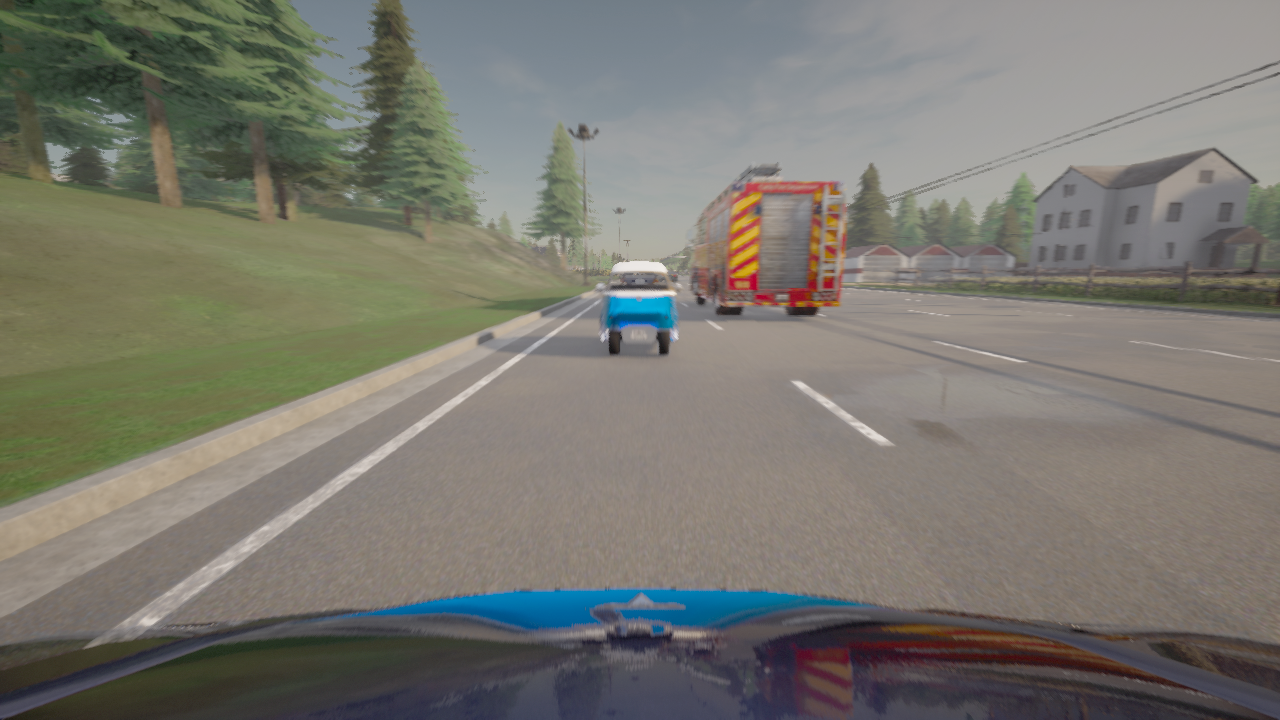cyclist: (0, 588, 1279, 719), (686, 163, 845, 316), (596, 263, 681, 356), (666, 270, 676, 282)
